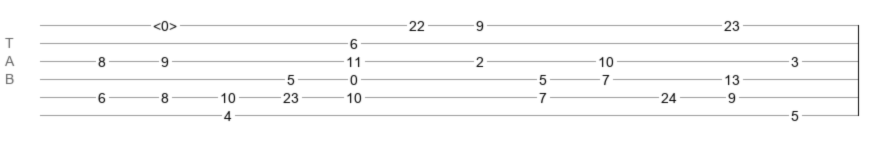0: (350, 72, 358, 82)
10: (220, 90, 236, 100), (346, 90, 362, 100), (598, 54, 614, 64)
11: (346, 54, 362, 64)
13: (724, 72, 740, 82)
2: (476, 54, 484, 64)
22: (409, 18, 425, 28)
23: (283, 90, 299, 100), (724, 18, 740, 28)
24: (661, 90, 677, 100)
3: (791, 54, 799, 64)
4: (224, 108, 232, 118)
5: (287, 72, 295, 82), (539, 72, 547, 82), (791, 108, 799, 118)
6: (98, 90, 106, 100), (350, 36, 358, 46)
7: (539, 90, 547, 100), (602, 72, 610, 82)
8: (98, 54, 106, 64), (161, 90, 169, 100)
9: (161, 54, 169, 64), (476, 18, 484, 28), (728, 90, 736, 100)
harmonic: (153, 18, 177, 28)
